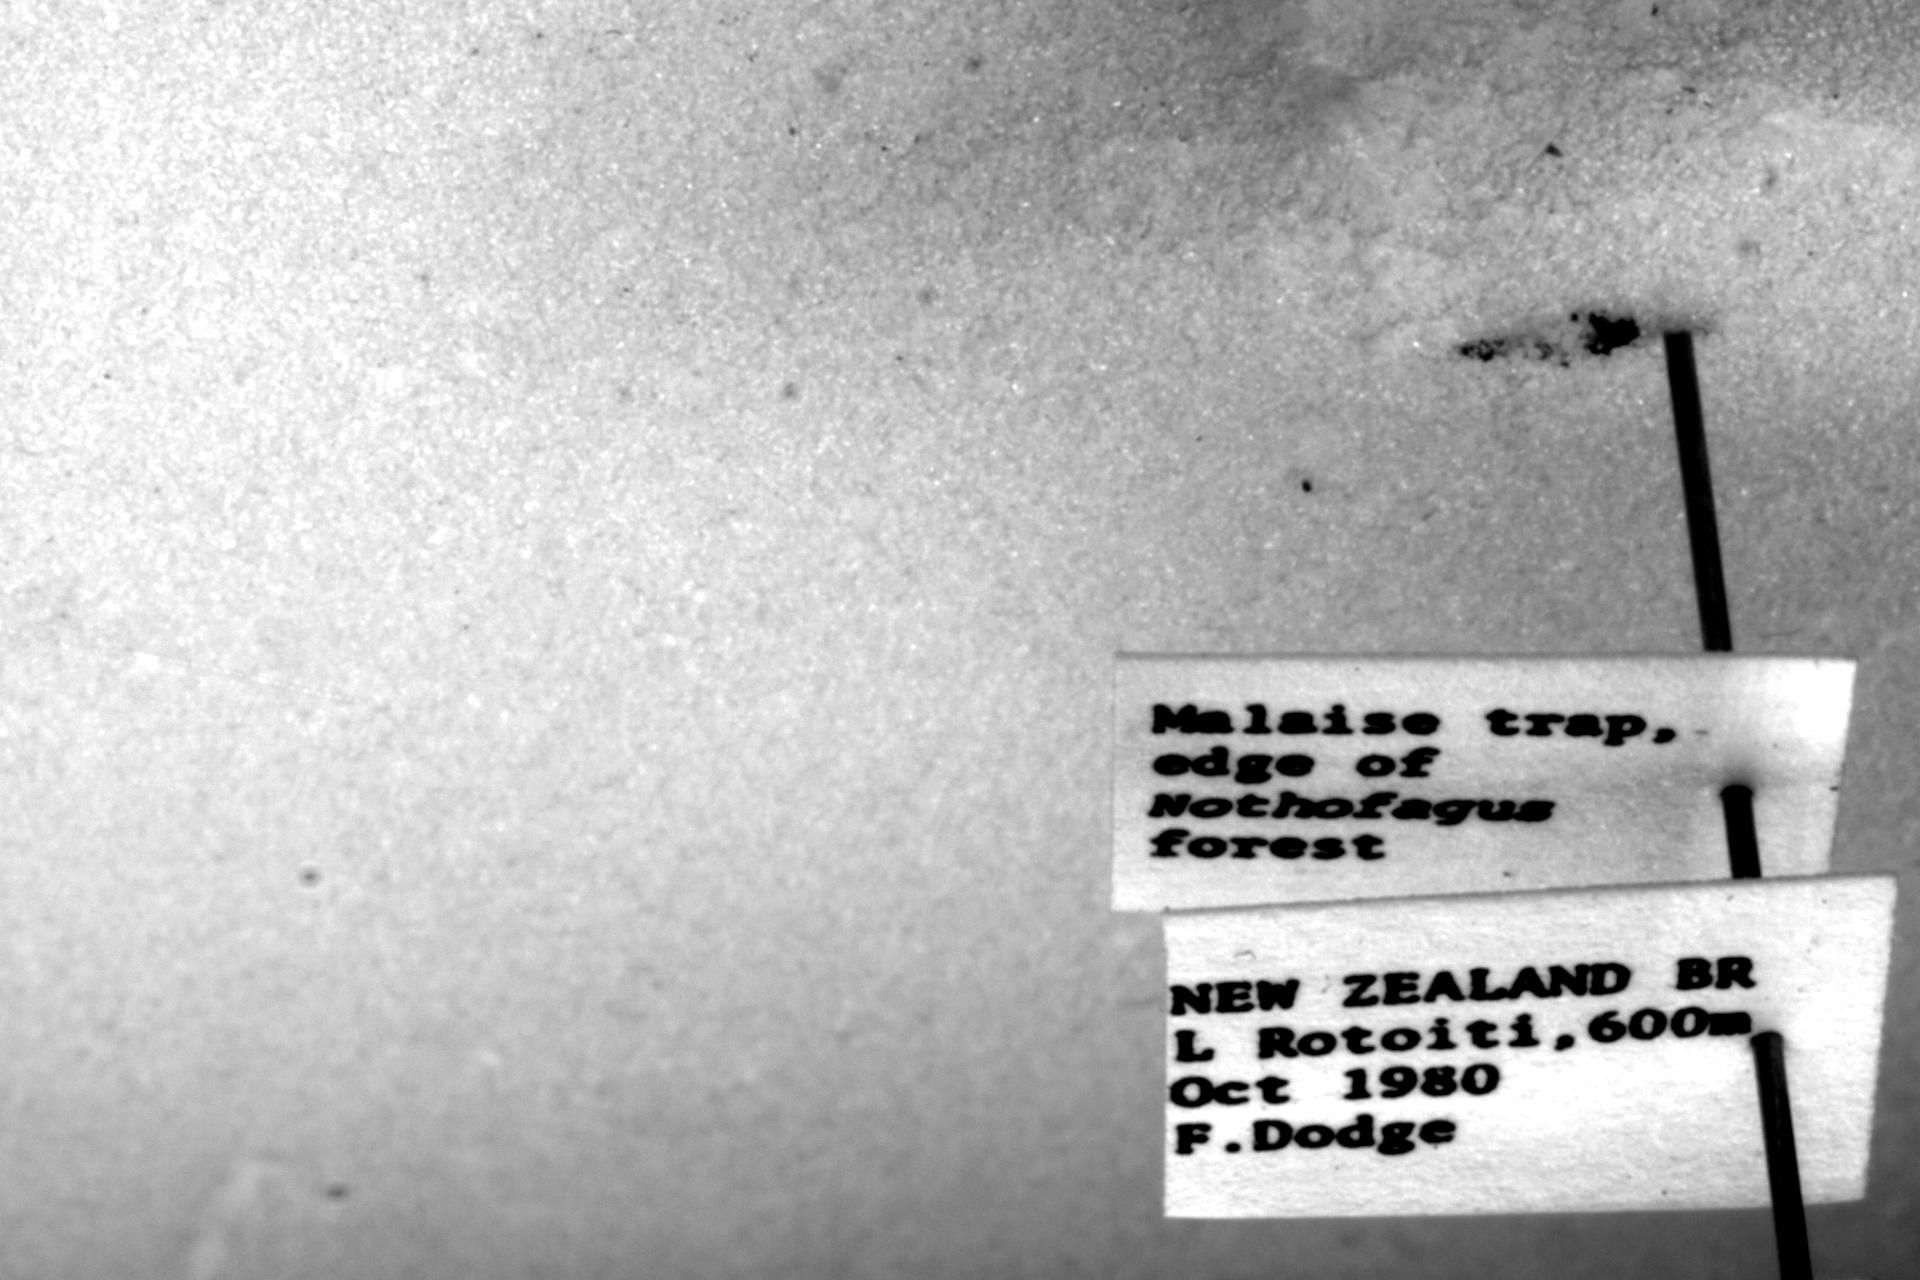typed_label: (1166, 877, 1894, 1219), (1114, 653, 1856, 911)
